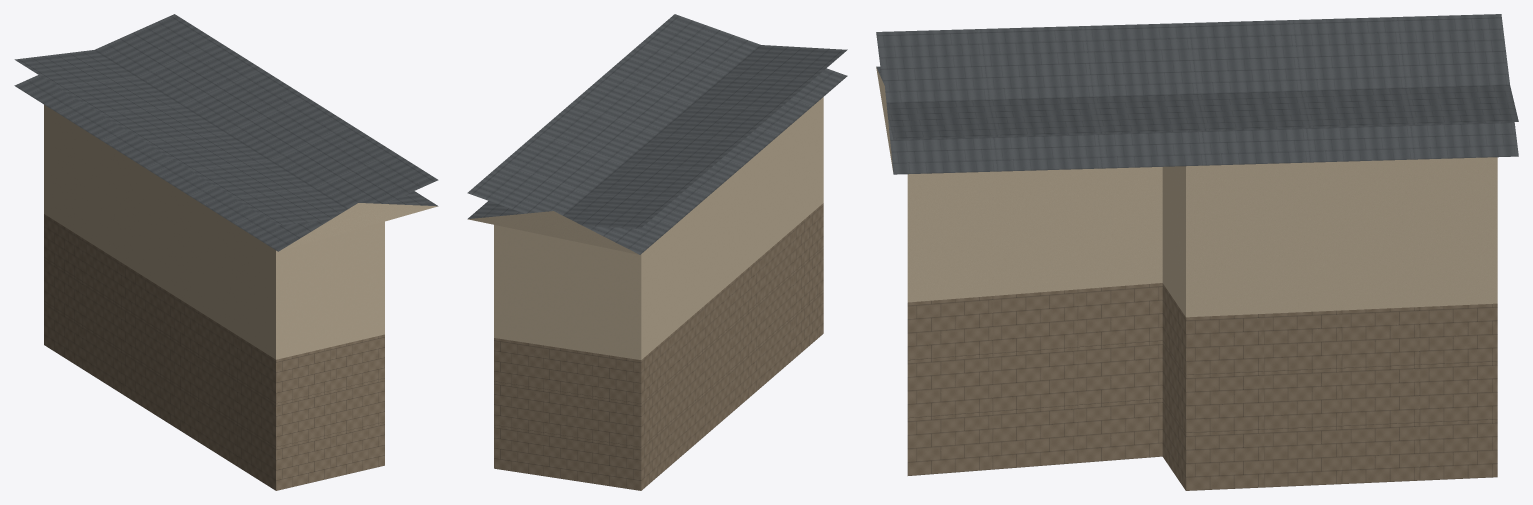
File: bld_c-18_19_511.gltf
3 renders of one model, left to right at view 1: azimuth 30°, elevation 25°; view 2: azimuth 150°, elevation 25°; view 3: azimuth 270°, elevation 25°, orthographic. The views are drawn at different scales.
Parts seen in each view (by area): view 1: bld_c-18_19_511; view 2: bld_c-18_19_511; view 3: bld_c-18_19_511.
Boxes of the visible parts, x1,y1,x2,y2 form: bld_c-18_19_511: (14,14,438,490); bld_c-18_19_511: (467,14,847,490); bld_c-18_19_511: (876,14,1518,490).
Size of the model in its own units: 7.79 by 10.6 by 16.8.
4 materials, 4 textured.
